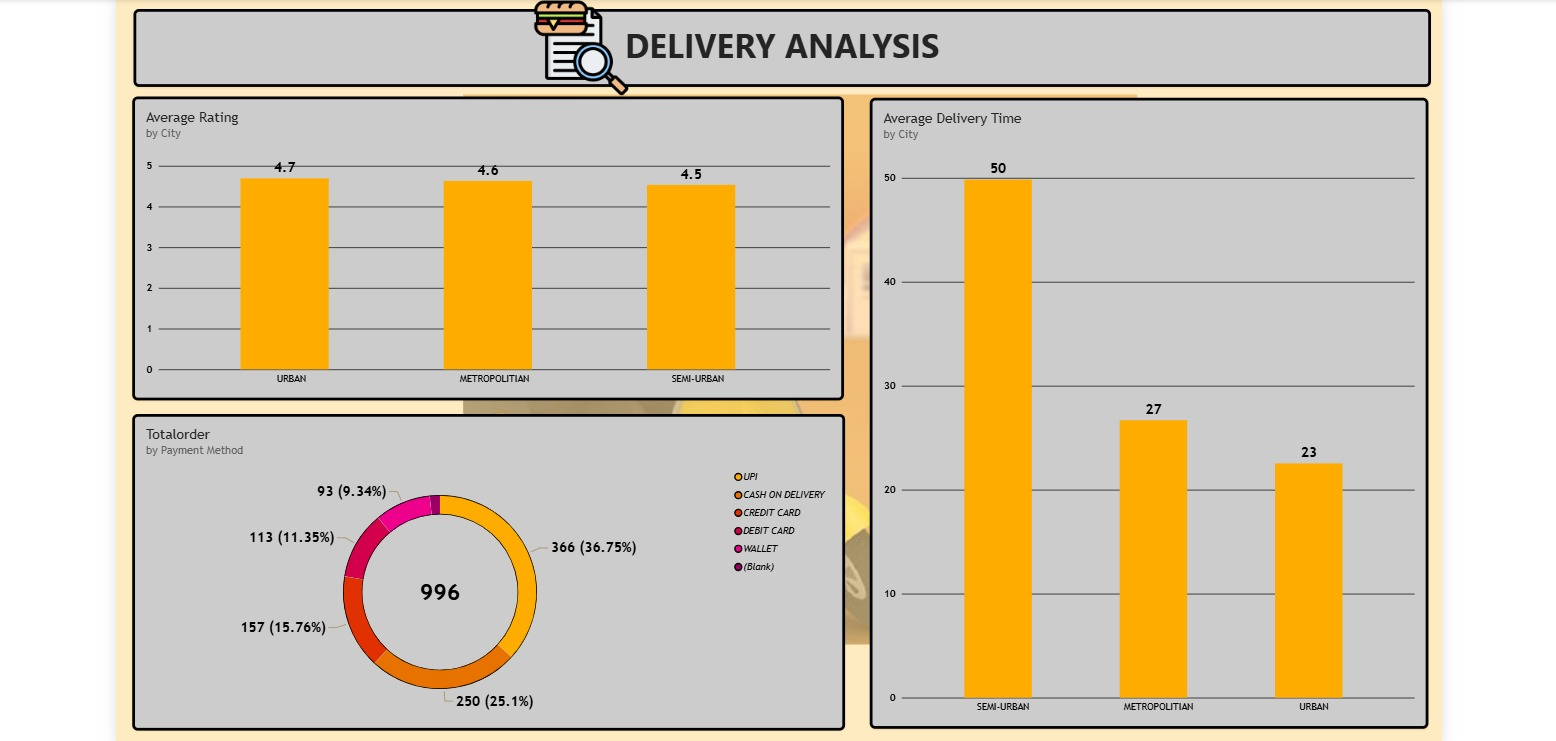

The dashboard page shown, as its layout file describes it:
{"tool":"powerbi","page":{"name":"Delivery Analyses","canvas":[1920,1080],"ordinal":1},"visuals":[{"type":"clusteredColumnChart","fields":{"Category":["Delivery Table.City"],"Y":["Delivery Table.Average Delivery Time"]},"box":[1091.1,142.8,809.2,913.5],"z":0},{"type":"textbox","box":[397.3,0,1054.5,117.2],"z":1000},{"type":"textbox","box":[25,14.6,1878.5,112.6],"z":2000},{"type":"columnChart","fields":{"Category":["Delivery Table.City"],"Y":["Delivery Table.Average Rating"]},"box":[24,142,1030,440],"z":3000},{"type":"donutChart","fields":{"Category":["Delivery Table.Payment Method"],"Y":["Delivery Table.Totalorder"]},"box":[24,600,1032,458],"z":4000},{"type":"image","box":[540,0,269,141.8],"z":5000}]}

Visuals, with their boxes in screenshot pixels (x1, y1, x2, y2):
clusteredColumnChart - Delivery Table.City x Delivery Table.Average Delivery Time: 868, 97, 1416, 715
textbox: 399, 0, 1113, 79
textbox: 147, 10, 1419, 86
columnChart - Delivery Table.City x Delivery Table.Average Rating: 146, 96, 843, 394
donutChart - Delivery Table.Payment Method x Delivery Table.Totalorder: 146, 406, 845, 716
image: 495, 0, 677, 96
